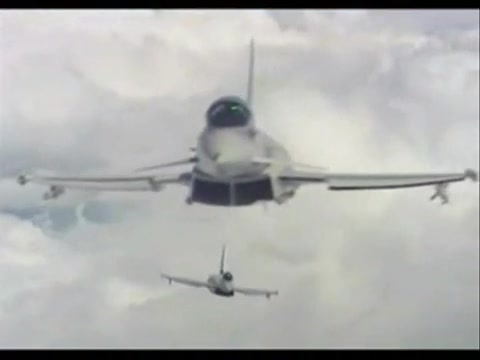aeroplane: (19, 39, 478, 210)
